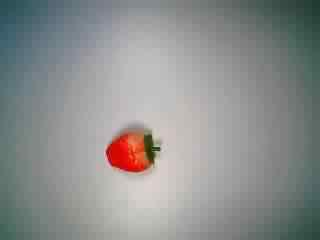strawberry: (98, 118, 164, 180)
